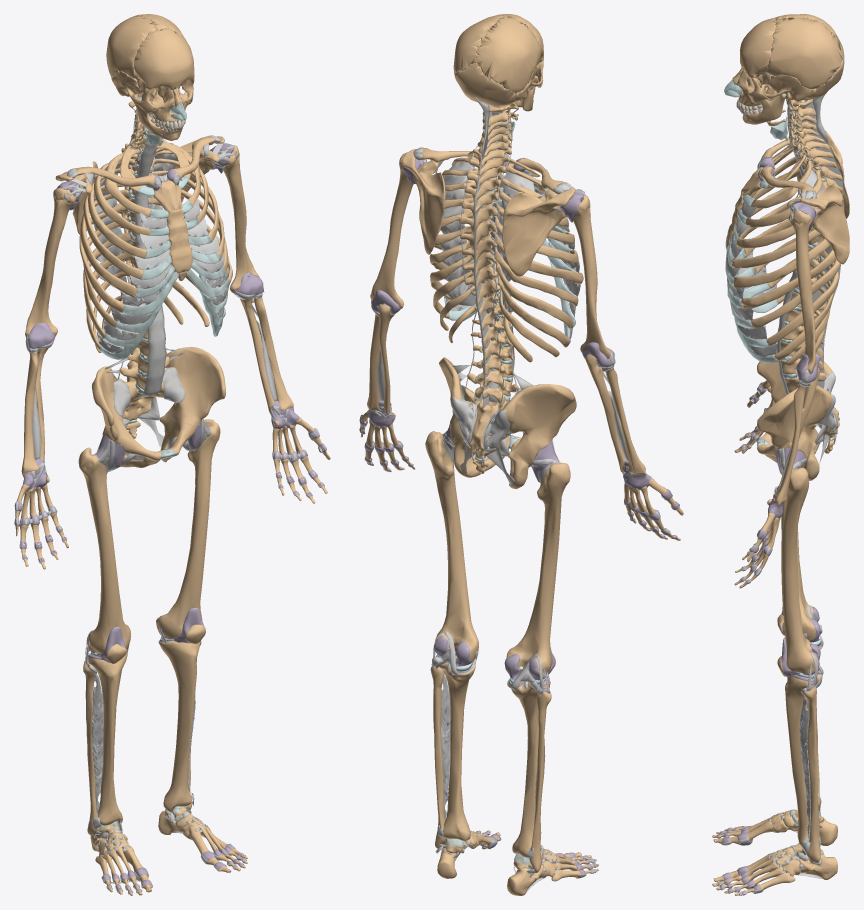
Rendered from arthrology.glb.
3 renders of one model, left to right at view 1: azimuth 30°, elevation 25°; view 2: azimuth 150°, elevation 25°; view 3: azimuth 270°, elevation 25°, orthographic. The views are drawn at different scales.
Visible parts, largest first — view 1: Object_9, Object_57, Object_4, Object_42; view 2: Object_9, Object_57, Object_4, Object_42; view 3: Object_9, Object_57, Object_4, Object_42, Object_50.
Boxes of the visible parts, <box> form: Object_9: <box>15,14,330,895</box>; Object_57: <box>15,108,326,894</box>; Object_4: <box>14,143,325,893</box>; Object_42: <box>20,95,315,861</box>; Object_9: <box>360,14,683,895</box>; Object_57: <box>360,96,679,891</box>; Object_4: <box>359,154,679,878</box>; Object_42: <box>387,88,633,877</box>; Object_9: <box>712,14,849,895</box>; Object_57: <box>717,92,843,895</box>; Object_4: <box>717,157,822,895</box>; Object_42: <box>724,79,824,876</box>; Object_50: <box>757,108,834,678</box>.
Size of the model in its own units: 0.6691 by 1.7 by 0.2501.
